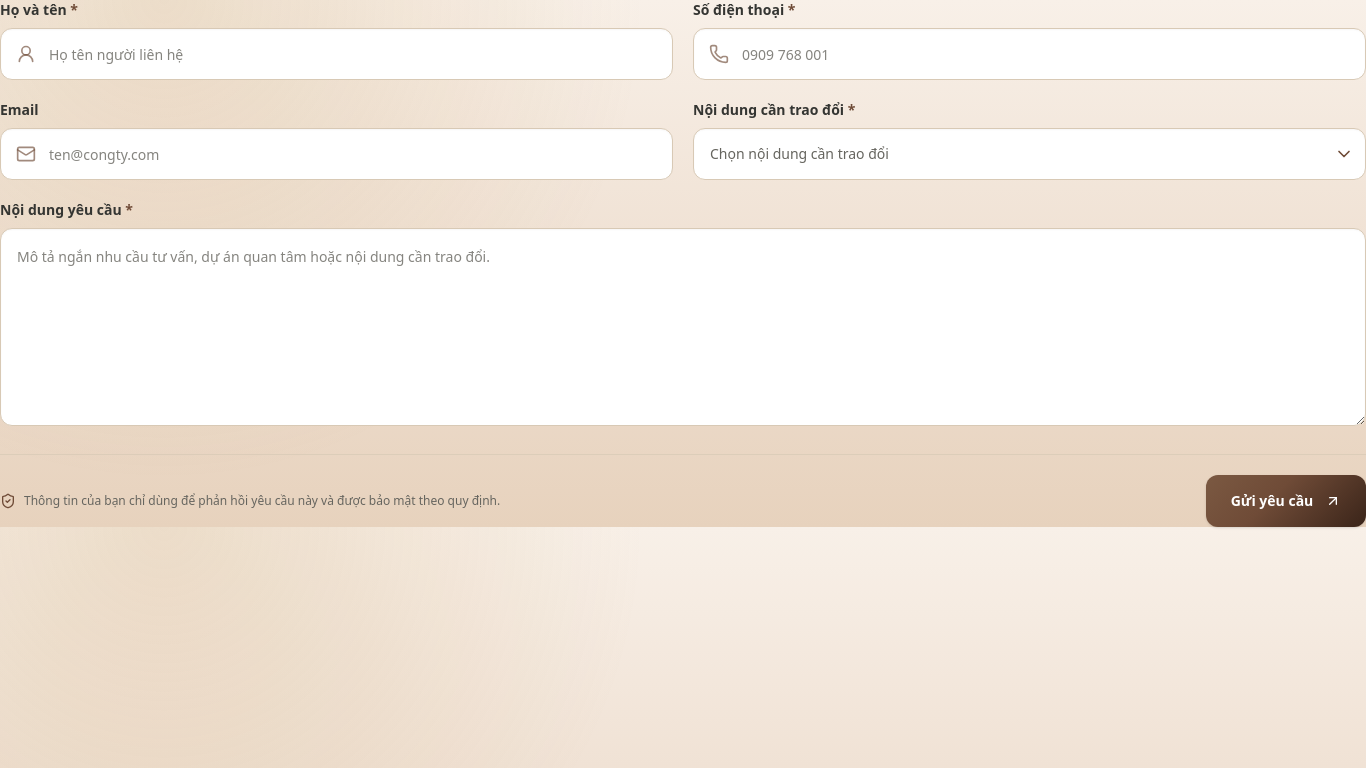
it: ContactForm › submit form trống → báo lỗi từng field, KHÔNG gọi API
Click the button "Gửi yêu cầu" at (1286, 501), box [1206, 475, 1365, 527]
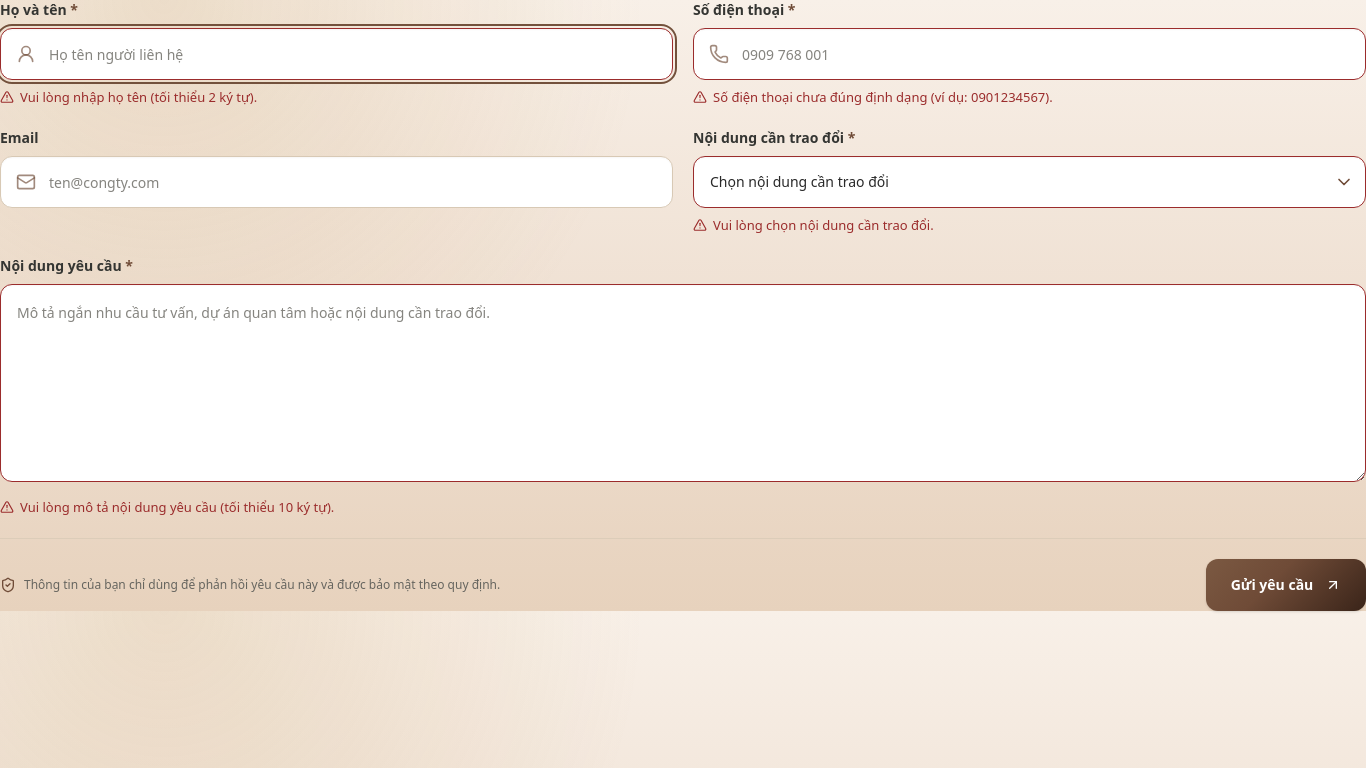
Expected: the text "Vui lòng nhập họ tên (tối thiểu 2 ký tự)." is shown, [0, 88, 257, 106]
Expected: the text "Số điện thoại chưa đúng định dạng (ví dụ: 0901234567)." is shown, [693, 88, 1053, 106]
